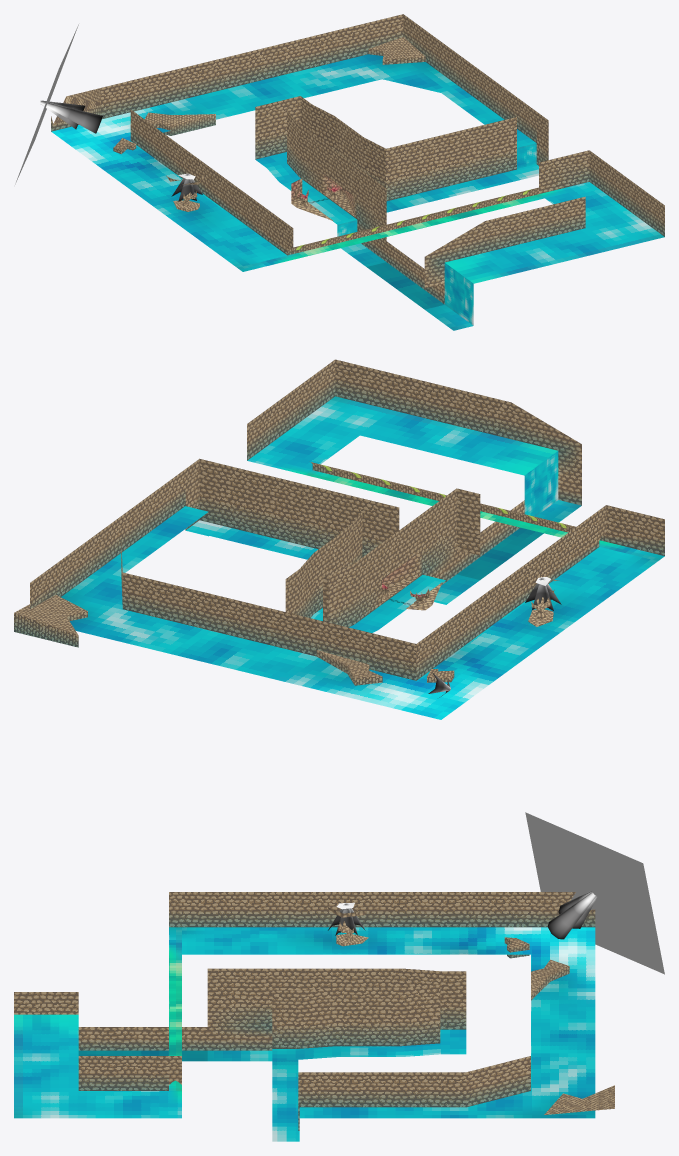
File: map_desert.glb
3 views of the same model, one above another, from view 1: azimuth 30°, elevation 25°; view 2: azimuth 150°, elevation 25°; view 3: azimuth 270°, elevation 25° (orthographic). The views are drawn at different scales.
Visible parts, largest first — view 1: MapWalls, MapRoad, Rubble, LightLeak2, LightLeakBack; view 2: MapWalls, MapRoad, Rubble; view 3: MapWalls, MapRoad, LightLeakBack, Rubble, LightLeak2.
Part boxes in pixels (x1,y1,x2,y2): MapWalls: (51,14,664,325); MapRoad: (51,54,664,330); Rubble: (113,37,425,211); LightLeak2: (40,101,102,133); LightLeakBack: (15,24,78,184); MapWalls: (30,359,664,680); MapRoad: (61,396,664,719); Rubble: (14,577,559,685); MapWalls: (14,892,595,1130); MapRoad: (14,927,595,1141); LightLeakBack: (525,812,664,974); Rubble: (327,902,614,1114); LightLeak2: (547,892,596,939).
Size of what is drawn, in the model's own units: 827 by 254 by 1008.
6 materials, 4 textured.
